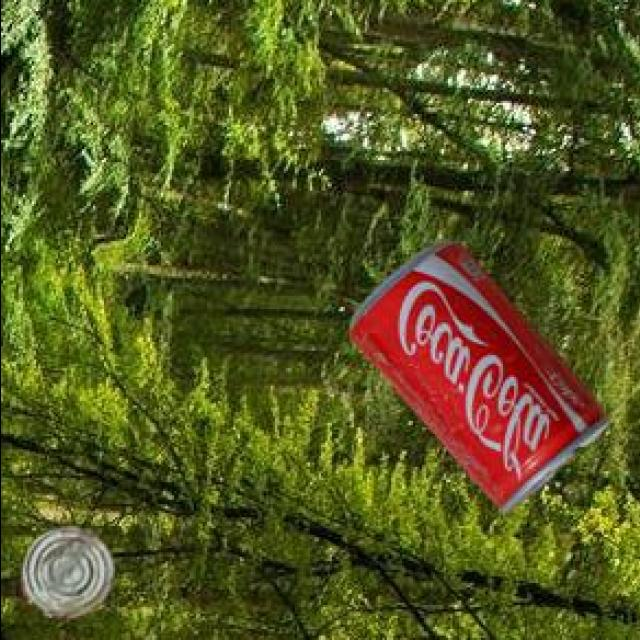logam: (352, 244, 610, 516), (23, 529, 117, 624)
